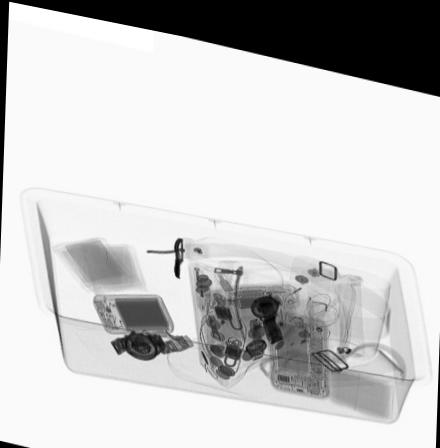Lighter: (192, 259, 212, 302)
